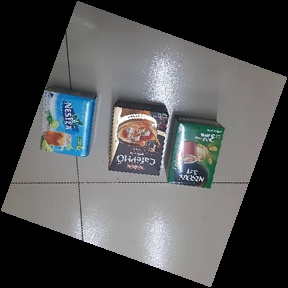CF pho: (106, 102, 168, 177)
Nes Rang: (165, 114, 222, 189)
Nestea: (37, 87, 97, 156)
